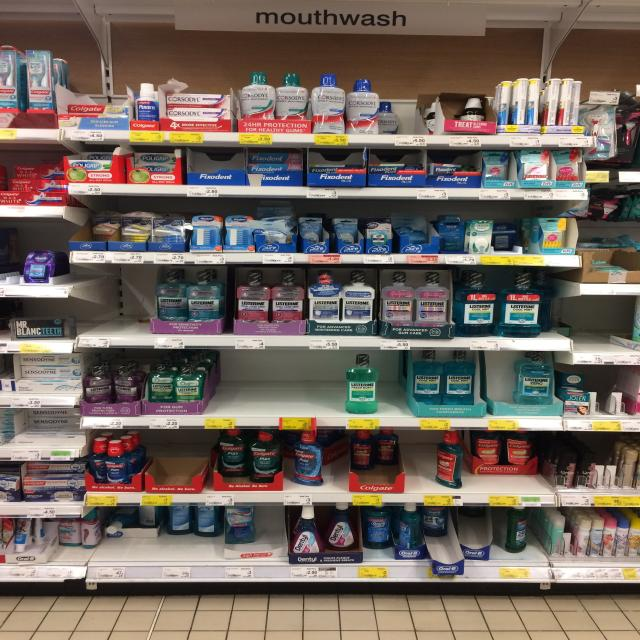void: (148, 433, 209, 508), (297, 346, 341, 427), (116, 264, 153, 349), (388, 81, 436, 144), (216, 352, 256, 425), (600, 293, 640, 365), (262, 350, 296, 430), (404, 428, 437, 503), (89, 266, 116, 348), (573, 297, 596, 367), (327, 434, 348, 501)
